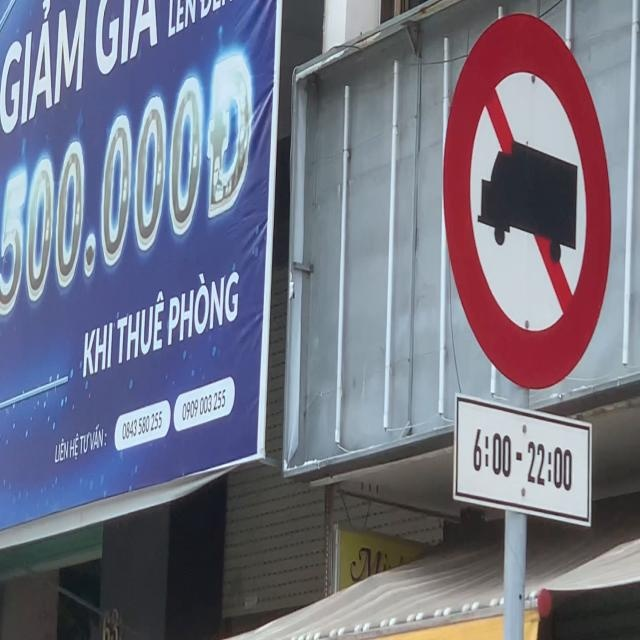bien_cam: (440, 11, 614, 392)
